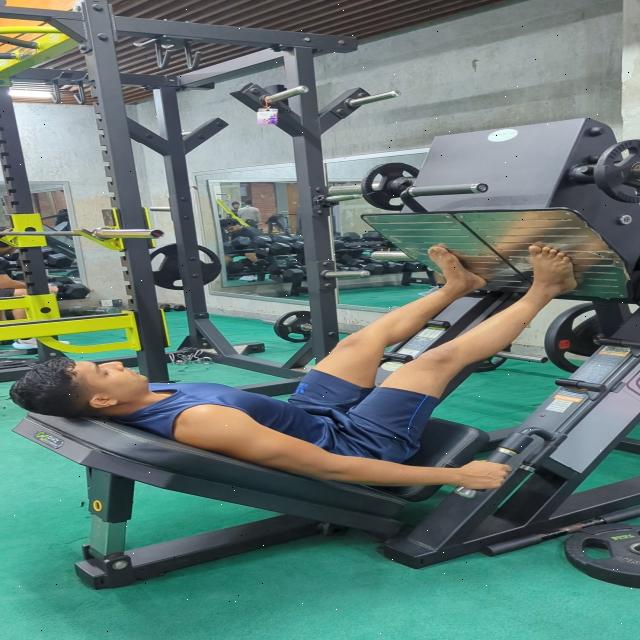Normal_LegPress: (6, 238, 616, 498)
